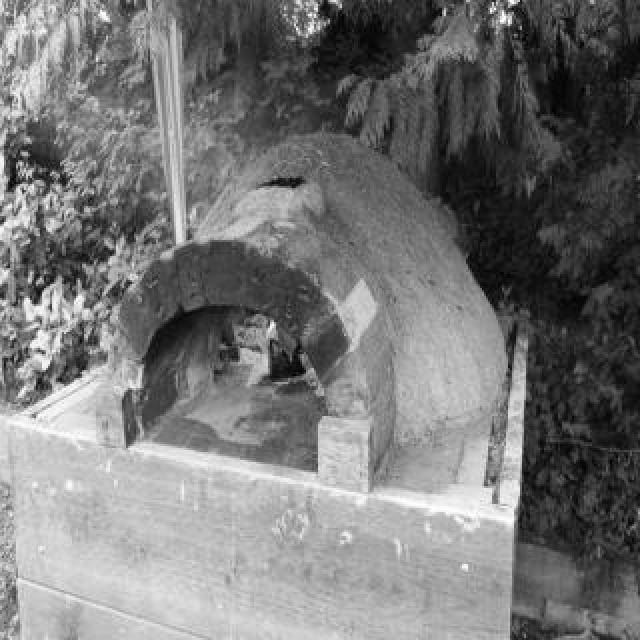Fire: (246, 294, 290, 396)
